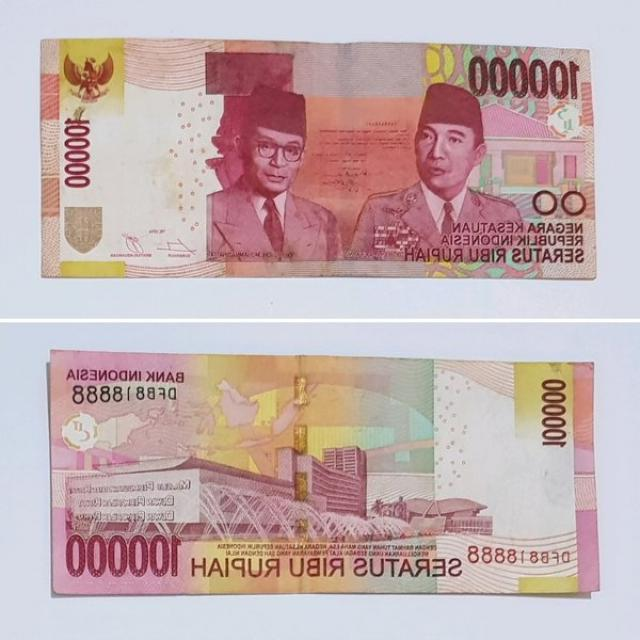seratus ribu rupiah: (37, 345, 608, 617), (34, 32, 602, 295)
